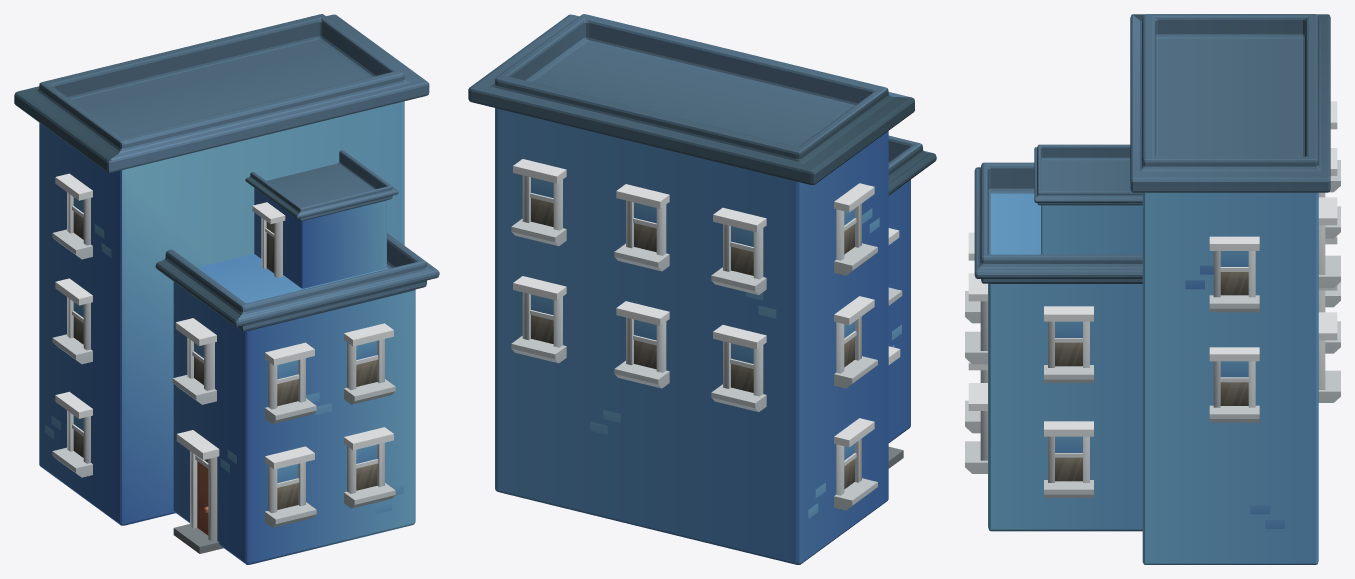
The model's file is azul 1.fbx.
3 views of the same model, side by side, from view 1: azimuth 30°, elevation 25°; view 2: azimuth 150°, elevation 25°; view 3: azimuth 270°, elevation 25° (orthographic). The views are drawn at different scales.
Visible parts, largest first — view 1: building_F_withoutBase.013; view 2: building_F_withoutBase.013; view 3: building_F_withoutBase.013.
Boxes of the visible parts, bbox=[...] form: building_F_withoutBase.013: bbox=[14, 14, 439, 564]; building_F_withoutBase.013: bbox=[468, 14, 936, 564]; building_F_withoutBase.013: bbox=[965, 14, 1340, 564].
Bounding box in the file's own units: 1787 × 2042 × 1706.
3 materials, 3 textured.
